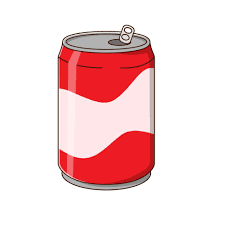can: (58, 25, 155, 190)
